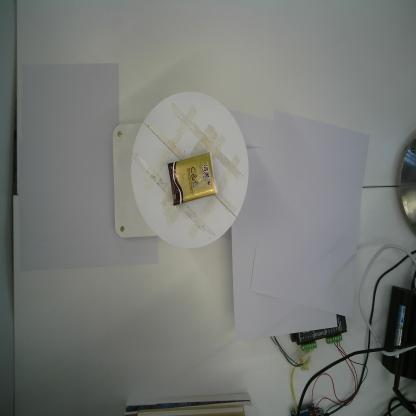Tissue: (167, 151, 218, 206)
